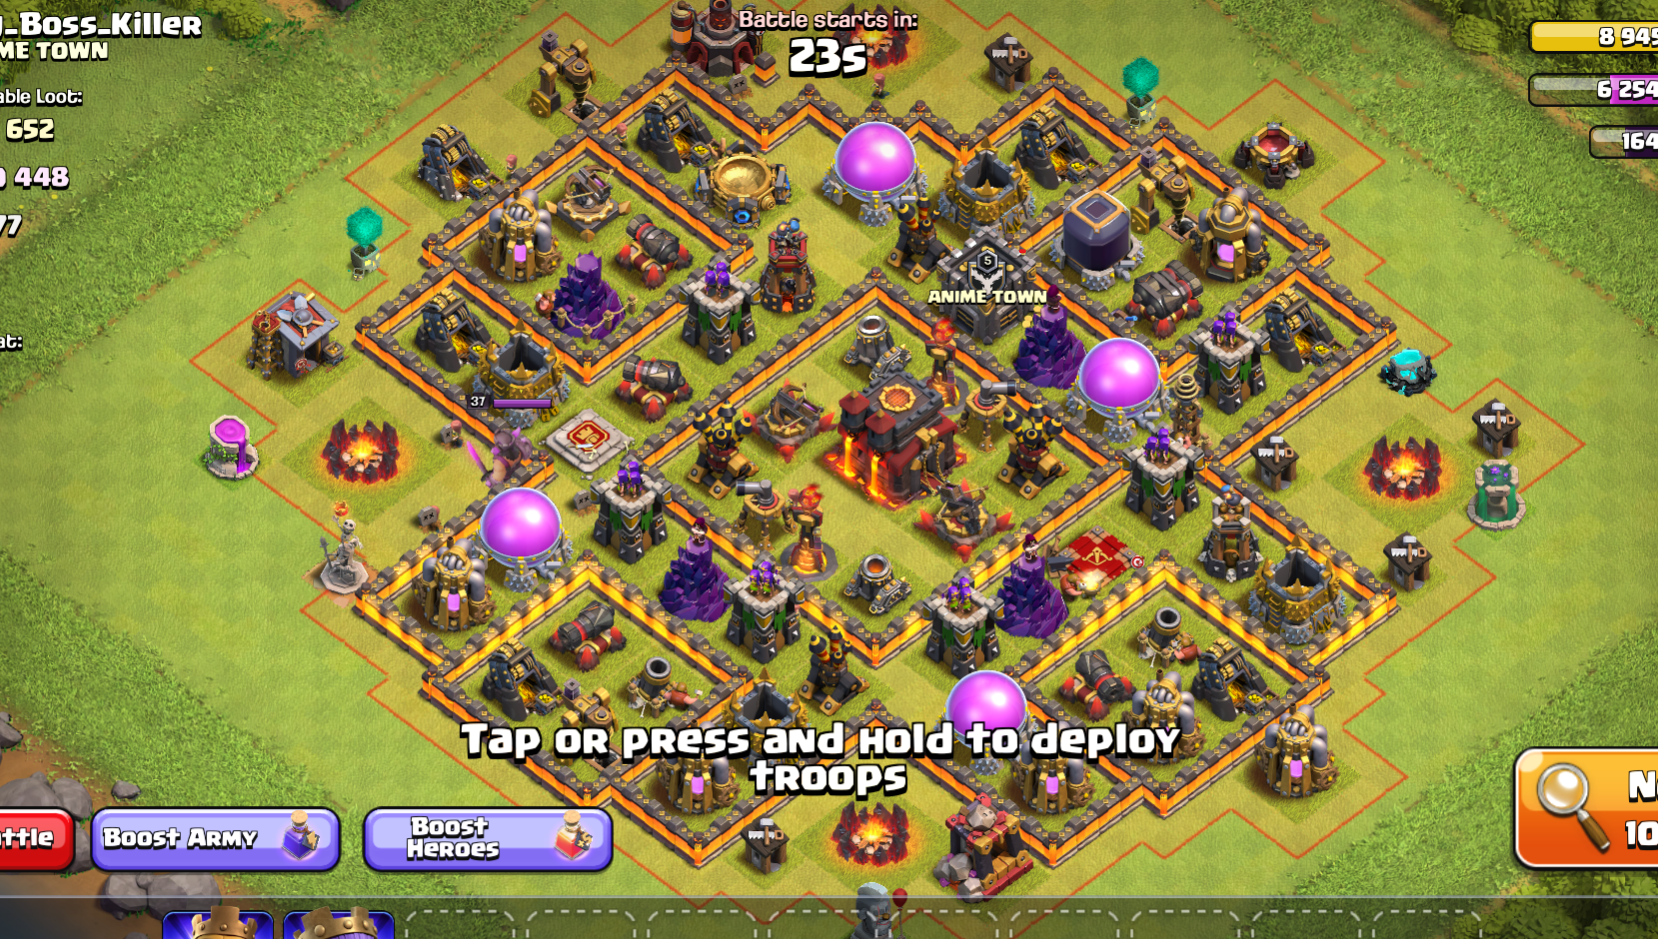dark_elixir_colector: (514, 24, 612, 138), (545, 676, 634, 781), (1121, 137, 1205, 245)
elixir_colector: (651, 716, 741, 825), (1121, 672, 1209, 779), (1009, 719, 1095, 826), (473, 191, 568, 287), (1188, 184, 1272, 286), (1259, 706, 1340, 808), (410, 542, 496, 633)
gold_mine: (617, 75, 722, 176), (396, 278, 496, 381), (408, 116, 508, 216), (469, 639, 572, 724), (1250, 279, 1347, 369), (1009, 96, 1093, 191), (1189, 636, 1283, 719)
